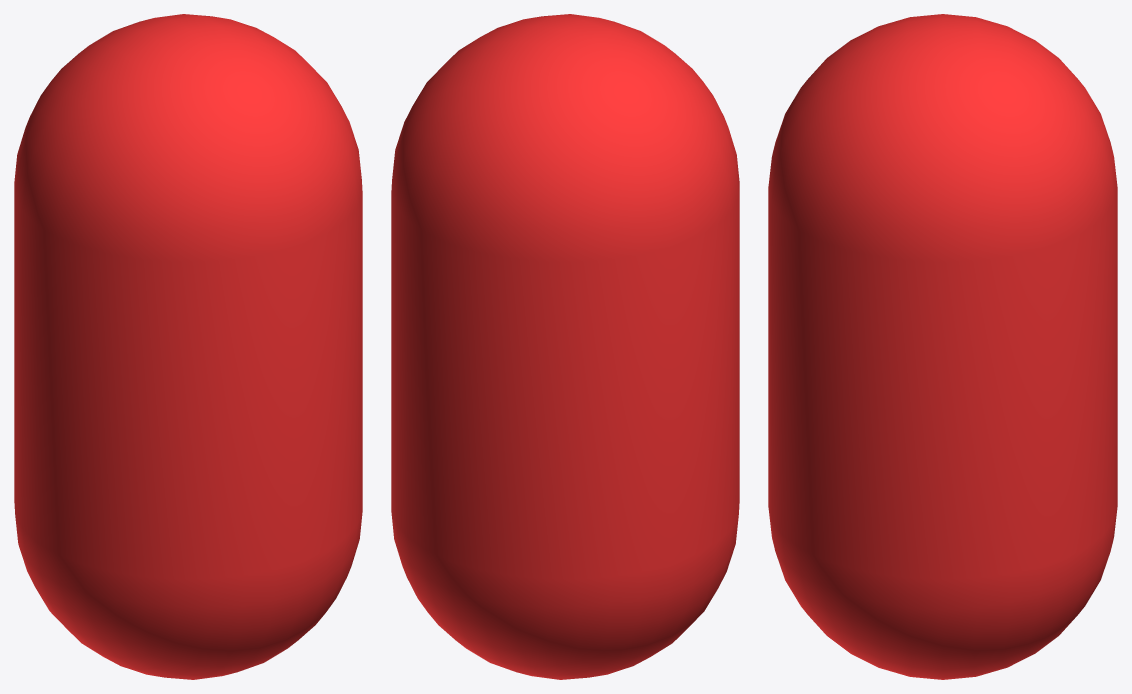
The model's file is TestEnemy.fbx.
3 views of the same model, side by side, from view 1: azimuth 30°, elevation 25°; view 2: azimuth 150°, elevation 25°; view 3: azimuth 270°, elevation 25° (orthographic).
Visible parts, largest first — view 1: Enemy; view 2: Enemy; view 3: Enemy.
Part boxes in pixels (x1,y1,x2,y2): Enemy: (14,14,362,679); Enemy: (391,14,739,679); Enemy: (768,14,1117,679).
Bounding box in the file's own units: 1 × 2 × 1.
Materials: 1 (1 with a texture image).
